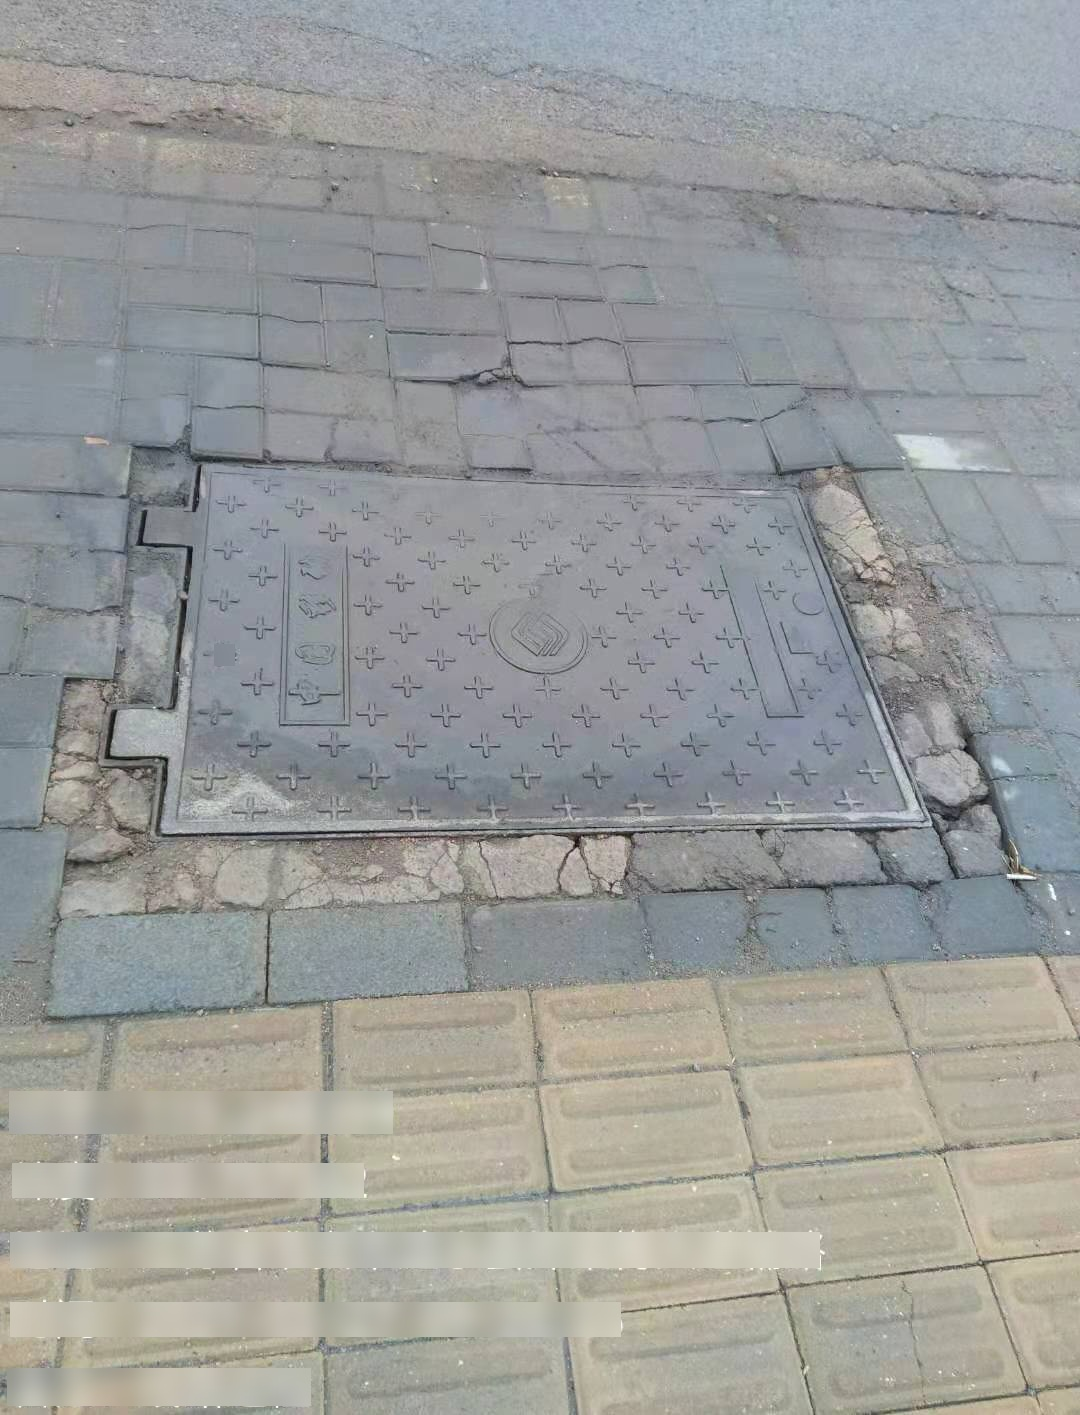good: (100, 461, 933, 829)
